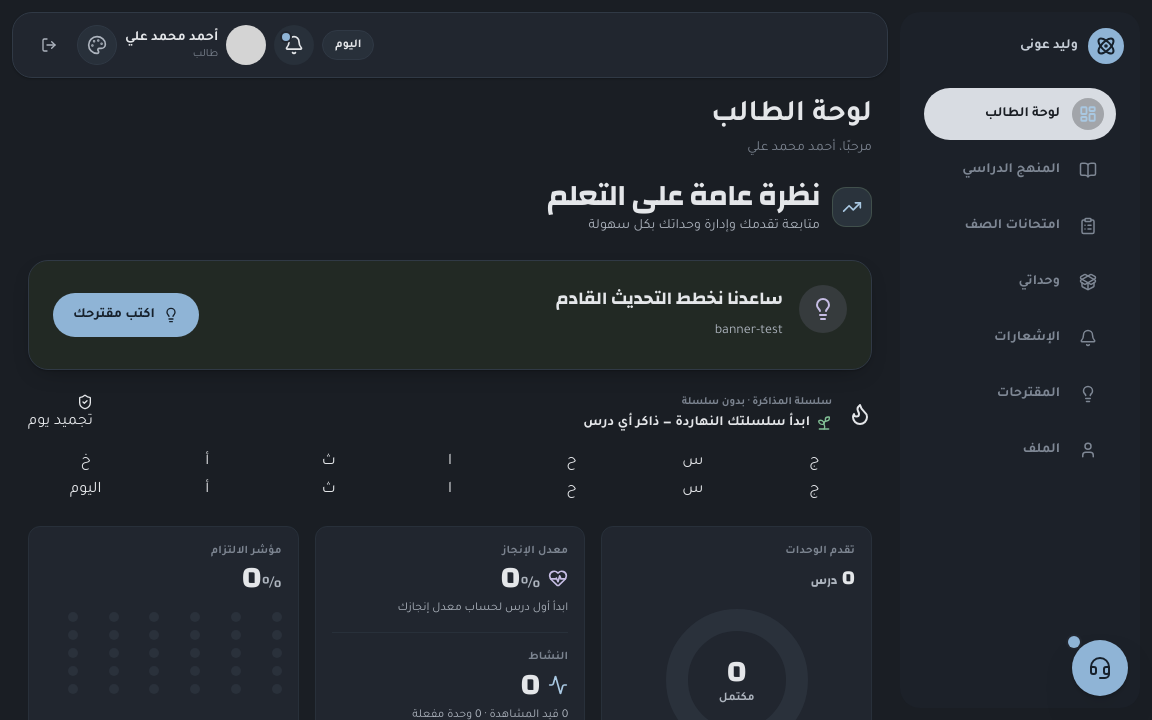
StreakCard › maps freeze errors to gentle Arabic messages
Click the button with test id "streak-freeze-btn" at (60, 414), box [28,394,93,434]
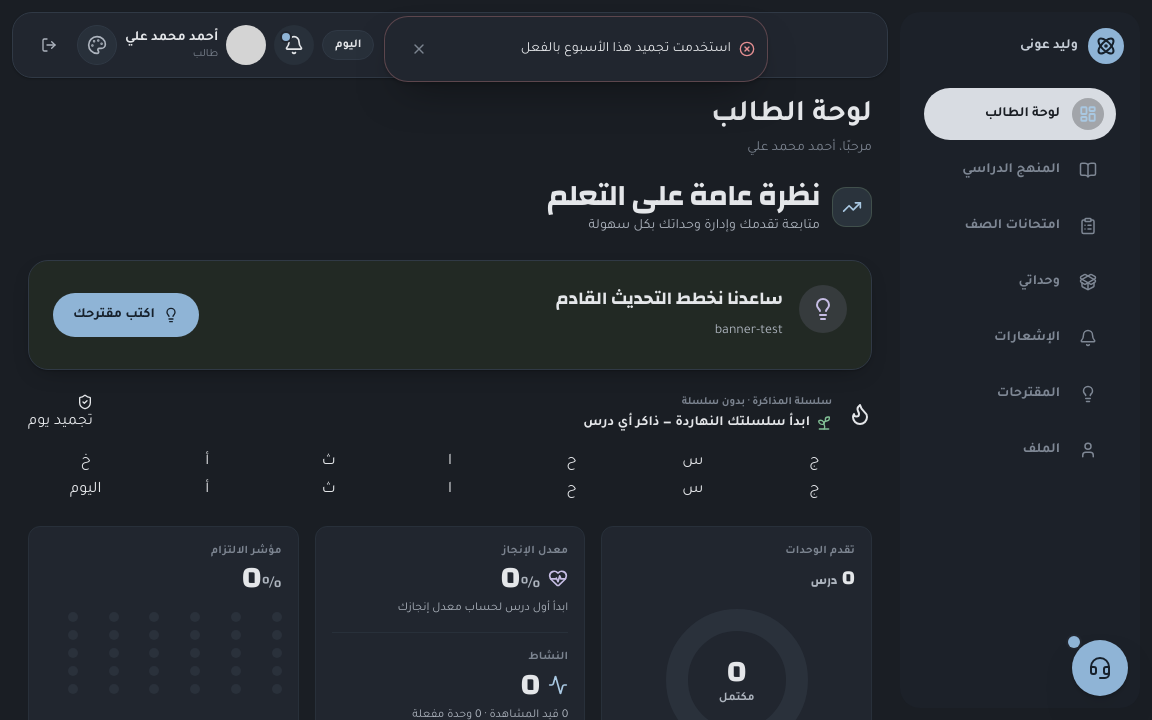
Check: the text "استخدمت تجميد هذا الأسبوع بالفعل" is shown, box [521,42,731,56]
